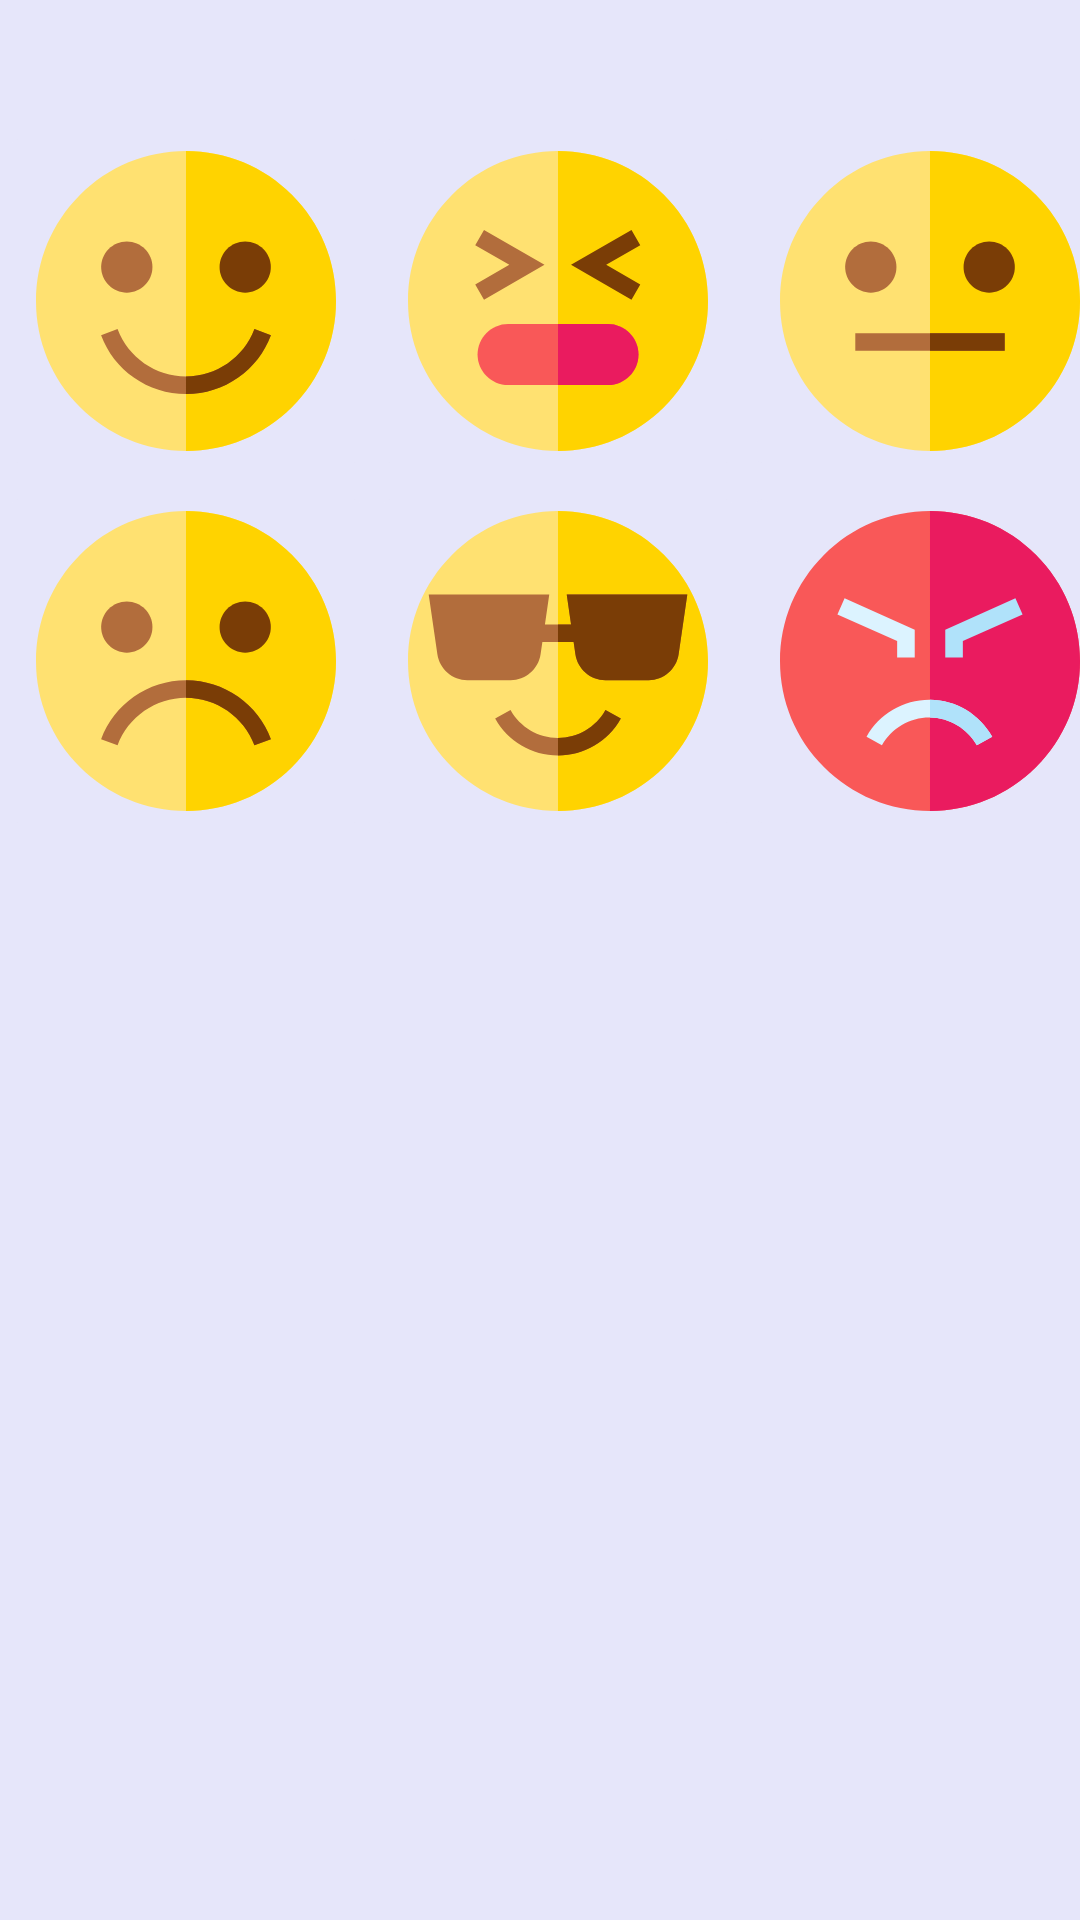

Icons on this 1080×1920 Android screen, each with the point to tap as [x,y]:
angry: [930,661]
cool: [558,661]
sad: [186,661]
smile: [186,301]
stress: [558,301]
